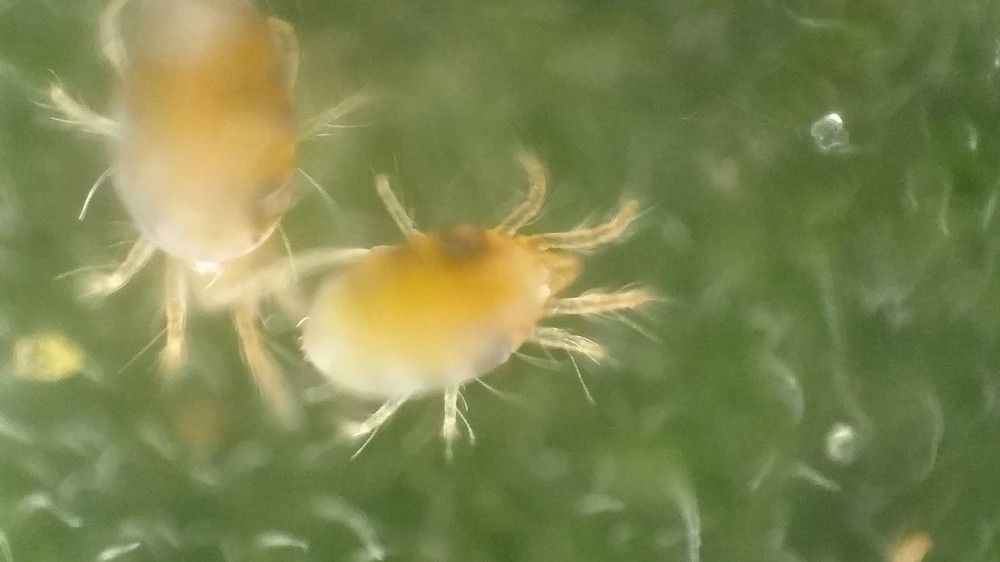Aracnido Rojo: (278, 156, 682, 456), (62, 2, 333, 426)
